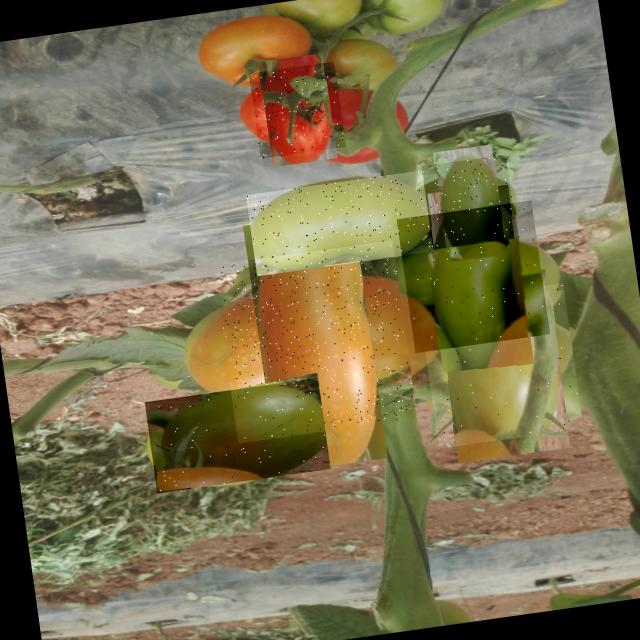Ripe Tomato: (249, 62, 346, 158)
Unripe Tomato: (214, 241, 418, 444), (418, 282, 584, 448), (397, 200, 550, 353), (145, 378, 331, 493), (246, 170, 434, 276), (422, 154, 518, 250)
